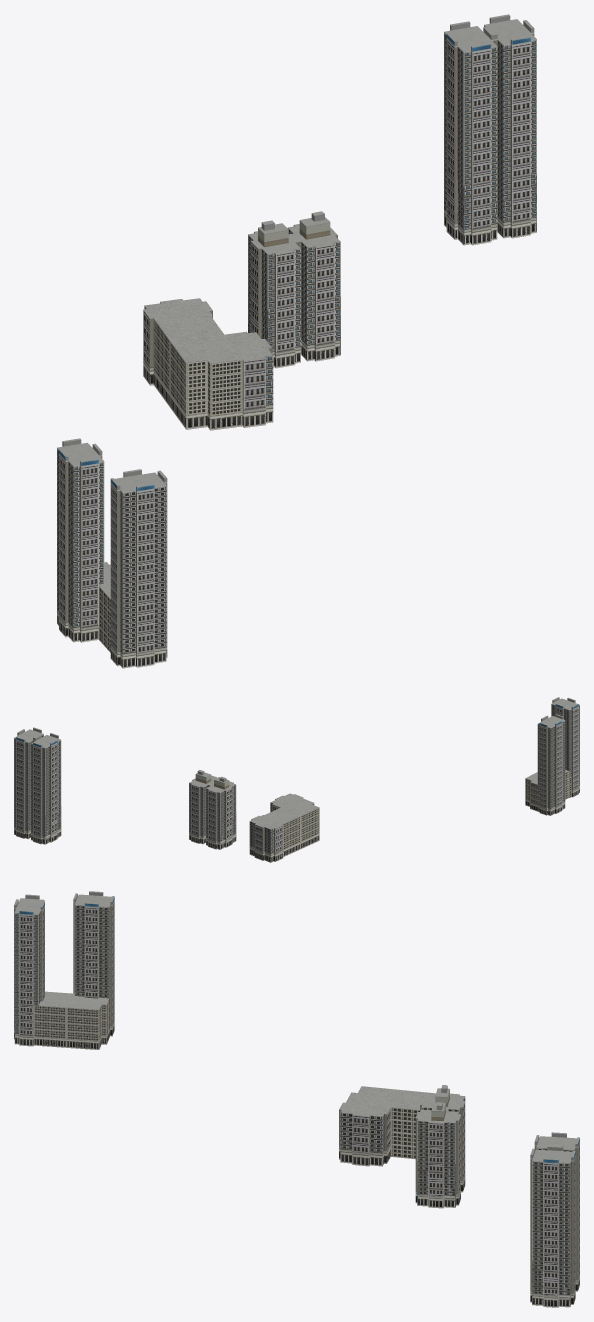
File: Monaco_track_building_city_03.dae
The picture shows the model from 3 angles, top to bottom: view 1: azimuth 30°, elevation 25°; view 2: azimuth 150°, elevation 25°; view 3: azimuth 270°, elevation 25°; orthographic projection. The views are drawn at different scales.
Parts seen in each view (by area): view 1: building_city_03_03, building_city_03_04, building_city_03_01, building_city_03_02; view 2: building_city_03_04, building_city_03_03, building_city_03_01, building_city_03_02; view 3: building_city_03_03, building_city_03_04, building_city_03_01, building_city_03_02.
Part boxes in pixels (x1,y1,x2,y2): building_city_03_03: (57, 438, 167, 668); building_city_03_04: (444, 14, 536, 245); building_city_03_01: (143, 298, 273, 430); building_city_03_02: (248, 211, 340, 368); building_city_03_04: (14, 727, 61, 844); building_city_03_03: (525, 697, 579, 815); building_city_03_01: (249, 793, 319, 862); building_city_03_02: (189, 770, 236, 849); building_city_03_03: (14, 891, 114, 1049); building_city_03_04: (530, 1132, 579, 1307); building_city_03_01: (339, 1086, 465, 1166); building_city_03_02: (415, 1085, 465, 1208).
Size of the model in its own units: 100 by 84.89 by 24.45.
3 materials, 3 textured.
